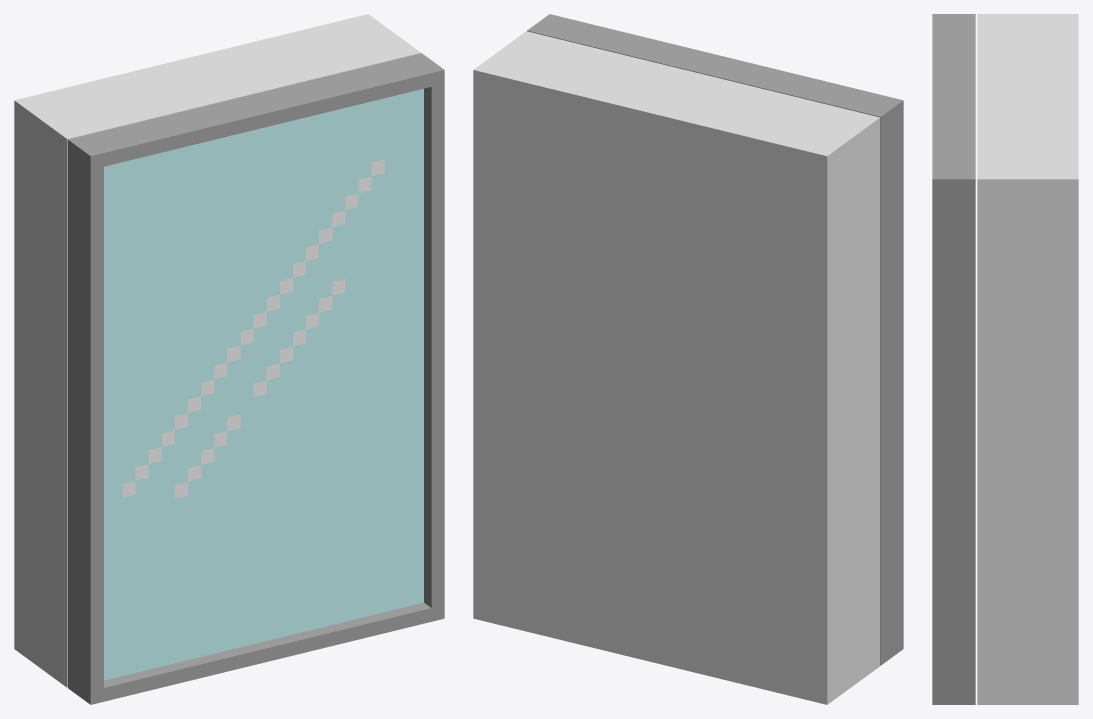
Rendered from medicine cabinet.fbx.
The picture shows the model from 3 angles, left to right: view 1: azimuth 30°, elevation 25°; view 2: azimuth 150°, elevation 25°; view 3: azimuth 270°, elevation 25°; orthographic projection. The views are drawn at different scales.
Parts seen in each view (by area): view 1: mirror, medcabinet; view 2: medcabinet, mirror; view 3: medcabinet, mirror.
Boxes of the visible parts, left/top/right/bottom form: mirror: left=68, top=53, right=444, bottom=704; medcabinet: left=14, top=14, right=420, bottom=687; medcabinet: left=473, top=31, right=880, bottom=704; mirror: left=527, top=14, right=903, bottom=665; medcabinet: left=977, top=14, right=1078, bottom=704; mirror: left=932, top=14, right=975, bottom=704.
Size of the model in its own units: 2.7 by 4 by 1.01.
1 material, 1 textured.
